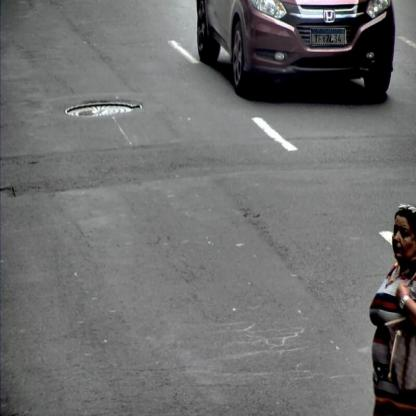PlacaM: (311, 29, 345, 45)
